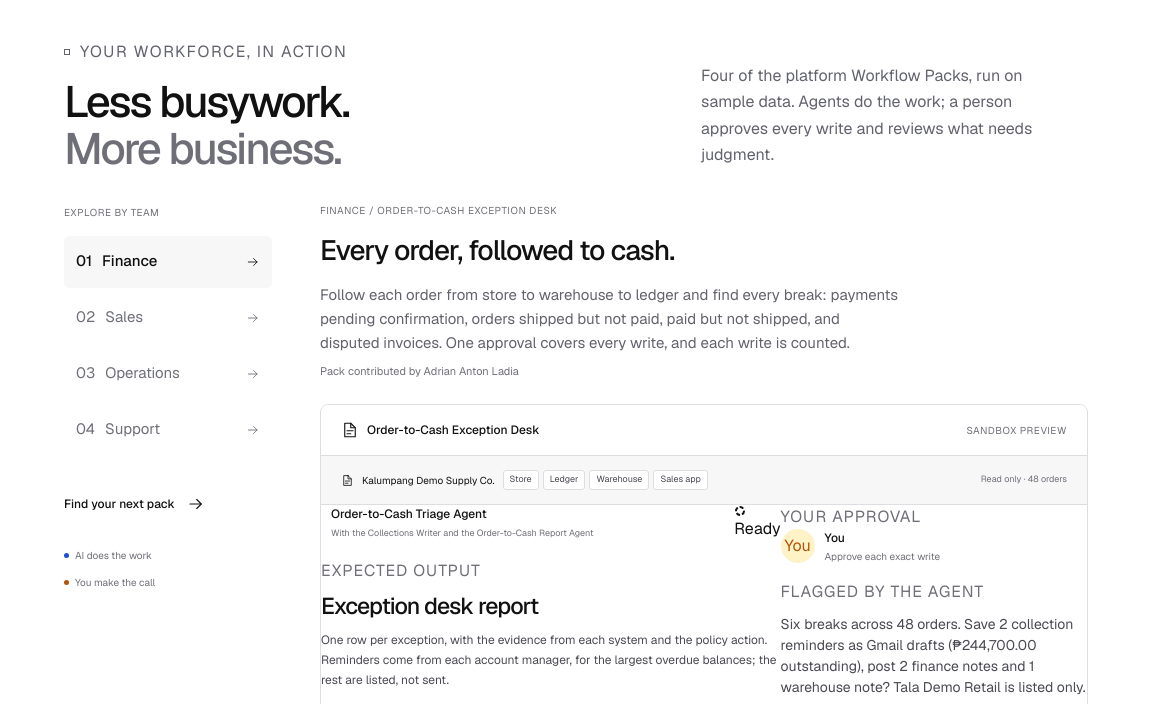
Test: WorkExplorer › shows one chapter at a time and the team buttons switch it, scrolling the chapters column
Click the button "02 Sales" at (168, 318), box [64, 292, 272, 344]
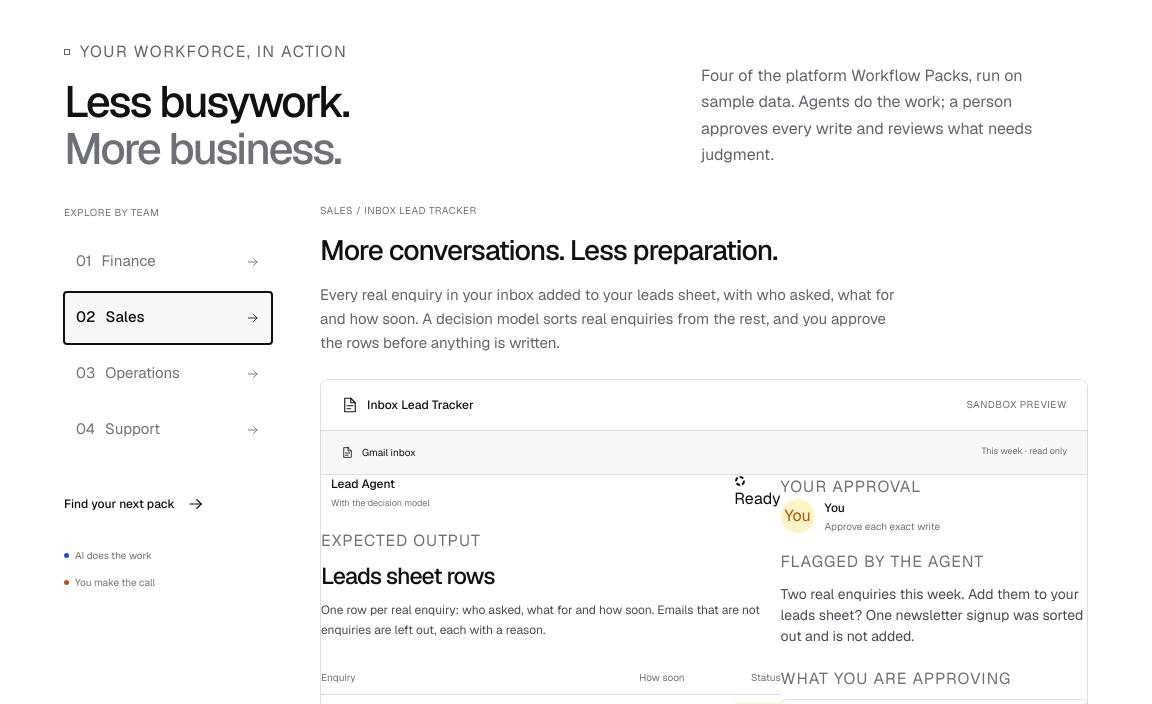
Expected: the heading "More conversations. Less preparation." is shown, [320, 232, 777, 268]
Expected: the heading "Every order, followed to cash." is gone
